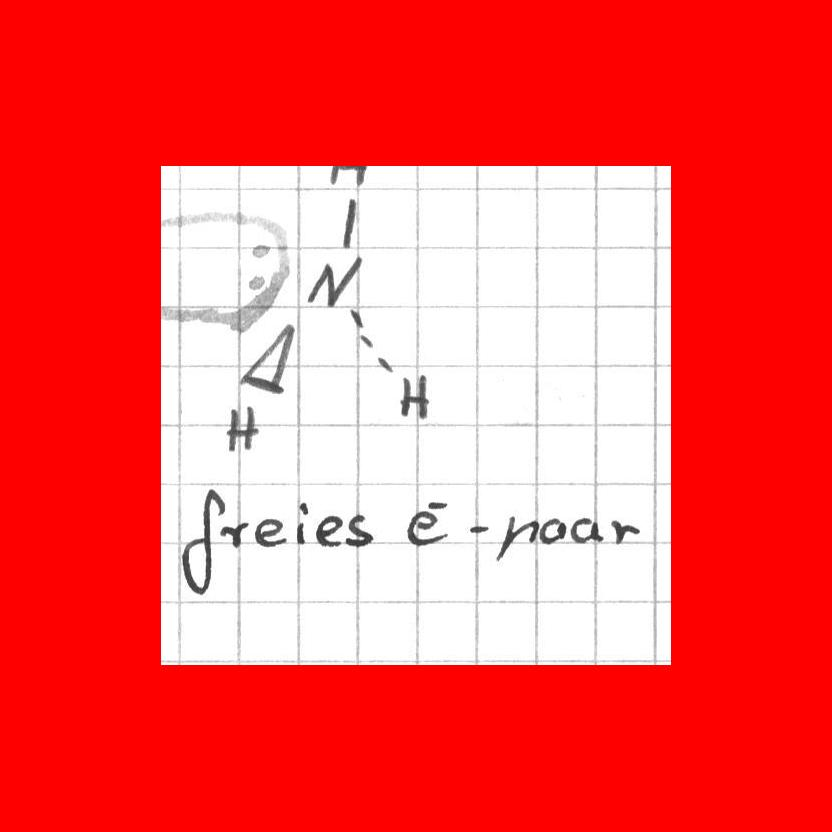Char: (183, 490, 221, 592), (239, 326, 296, 394), (306, 255, 360, 306), (331, 181, 364, 250), (495, 513, 537, 562), (224, 400, 261, 455), (404, 506, 449, 547), (397, 368, 431, 422), (347, 306, 374, 347), (344, 511, 373, 548), (255, 515, 285, 548), (314, 513, 341, 548), (570, 515, 601, 545), (609, 517, 641, 544), (221, 519, 248, 548), (539, 517, 566, 545), (294, 500, 309, 545), (247, 237, 274, 258), (373, 355, 395, 376), (466, 520, 490, 535), (426, 498, 450, 513)
